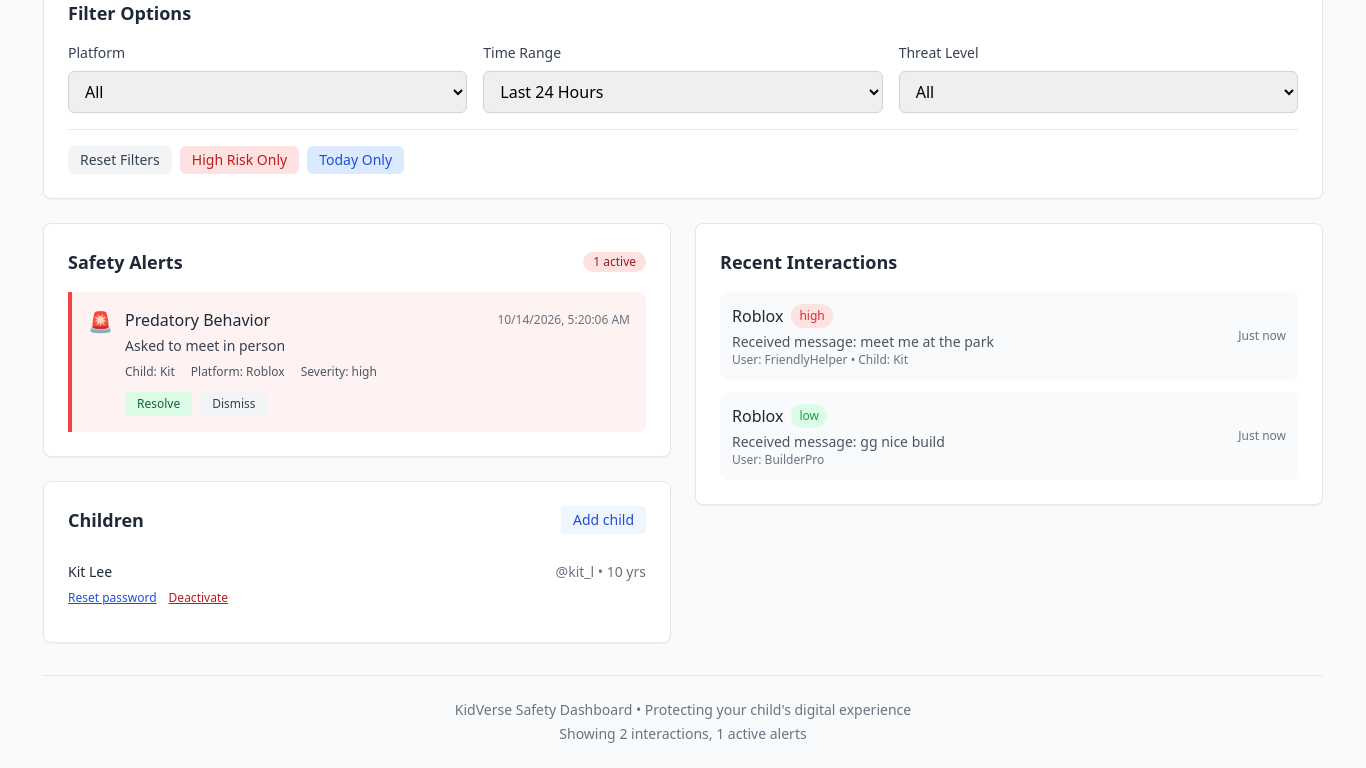
Test: Dashboard children › managing an existing child › deactivates after confirmation, then shows the child as inactive with a way back
The image size is (1366, 768).
(page scrolled)
Click the button named "Deactivate Kit". click: (198, 598)
box: [169,590,228,606]
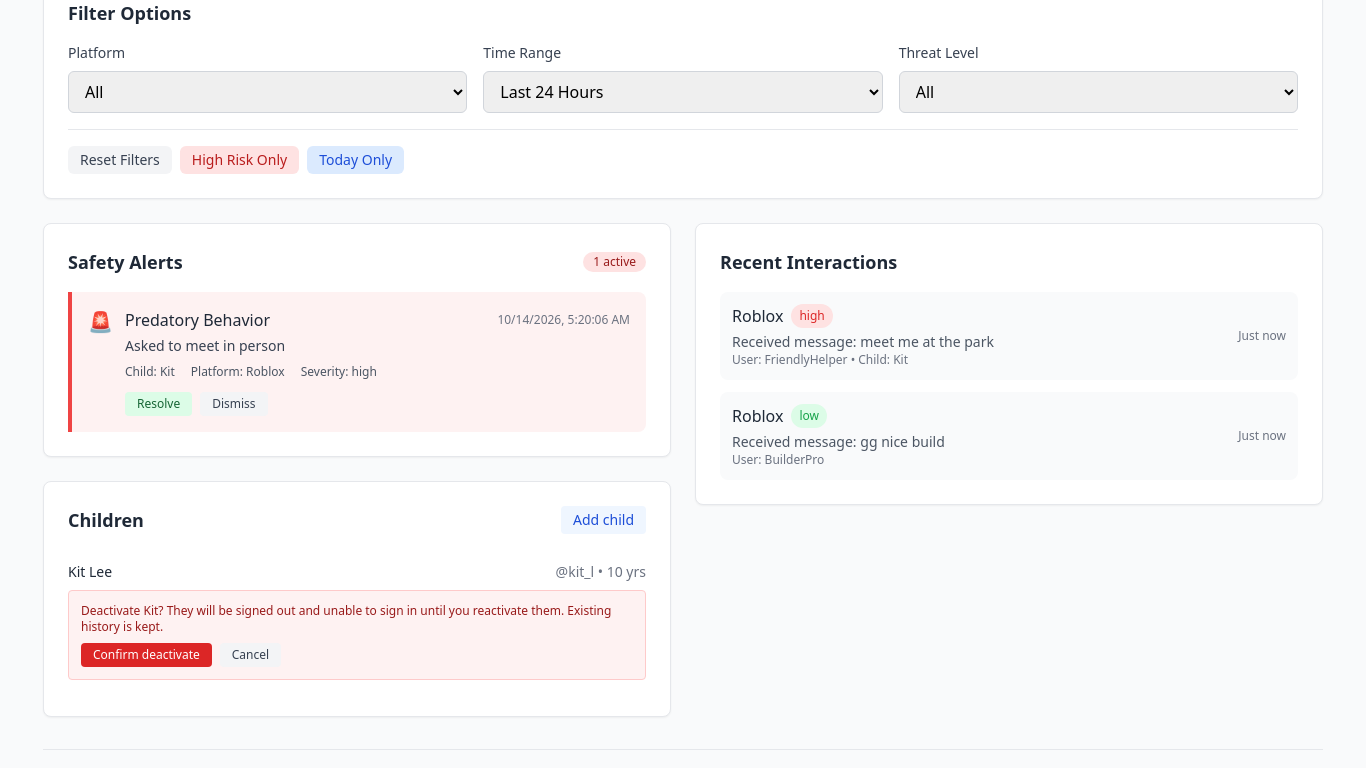
Click the button "Confirm deactivate". click: (146, 655)
box: [81,643,212,667]
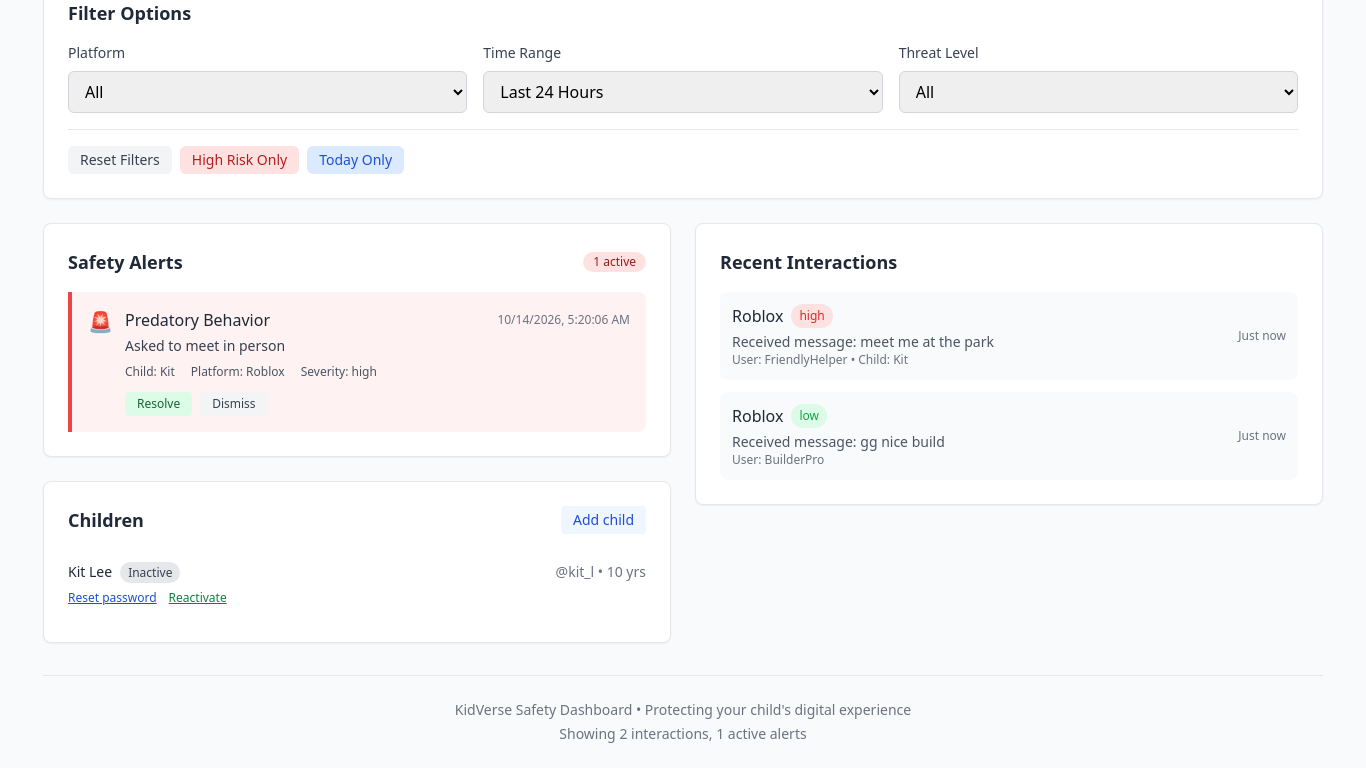
Now the text "Inactive" is shown, box [120,562,180,583]
Now the text "Deactivate Kit" is gone
Click the button named "Reactivate Kit". click: (198, 598)
box: [169,590,227,606]
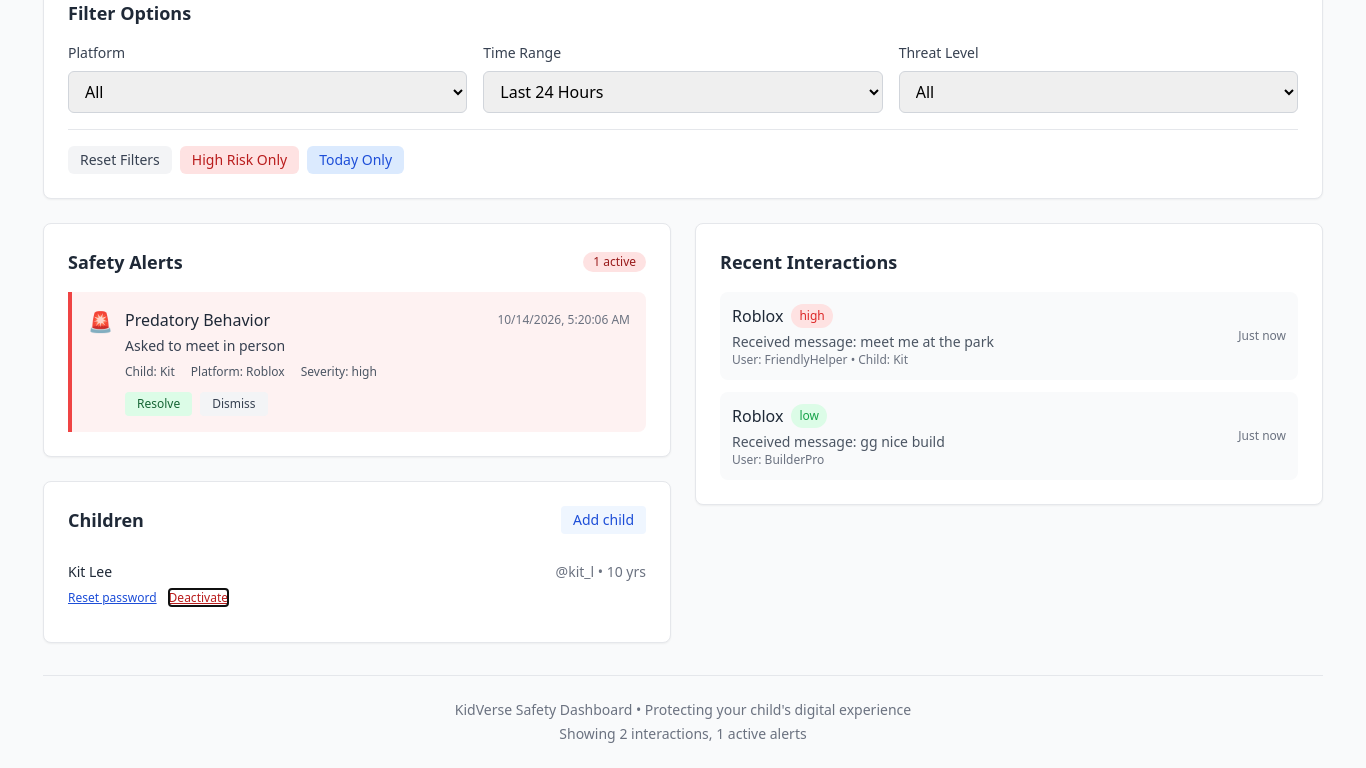
Now the text "Inactive" is gone
